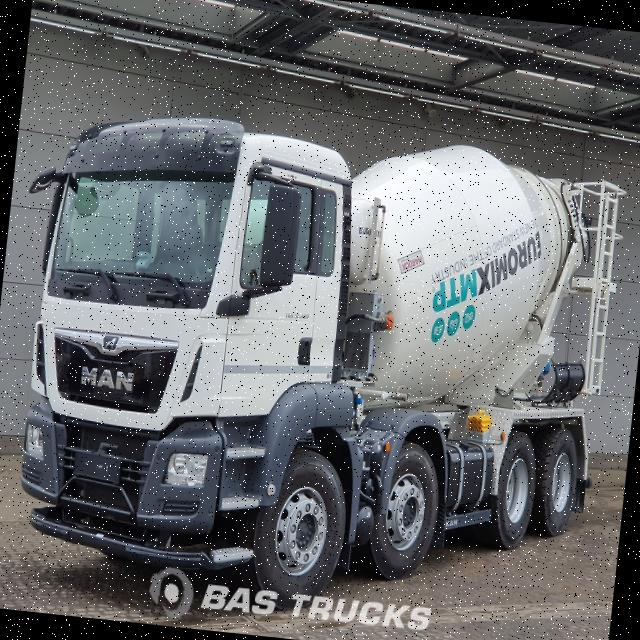Mixer Truck: (9, 104, 630, 640)
